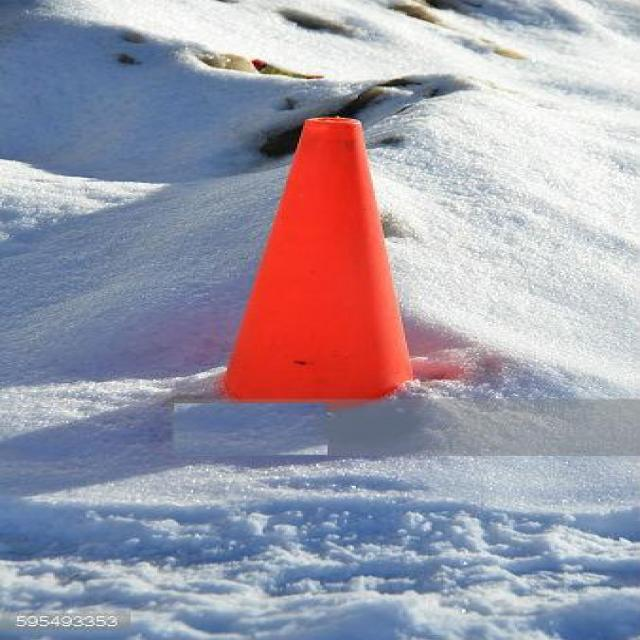Cone: (218, 114, 426, 418)
